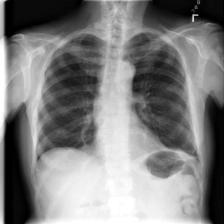normal: (32, 29, 203, 162)
